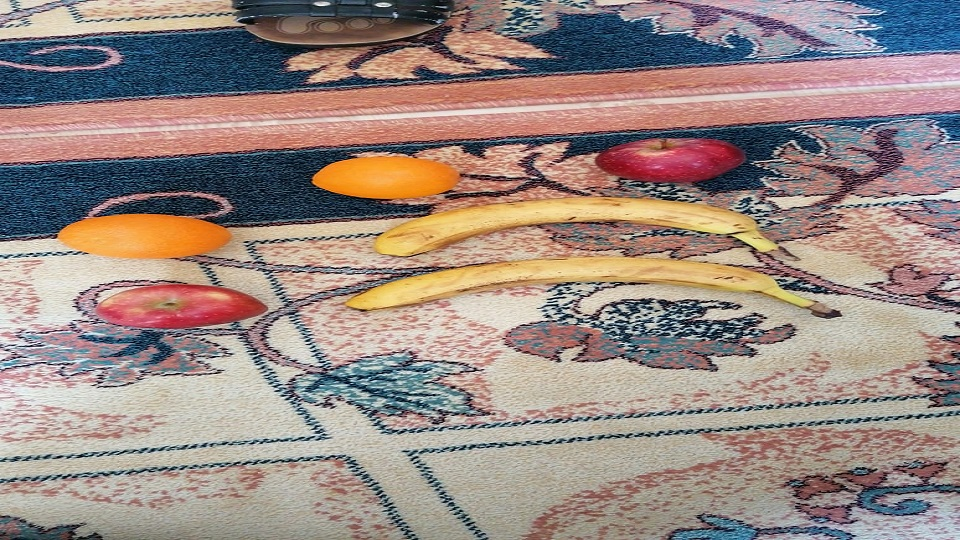elma: (94, 283, 269, 331), (594, 137, 746, 183)
muz: (346, 255, 832, 318), (375, 196, 784, 257)
portakal: (56, 213, 233, 261), (310, 156, 462, 200)
